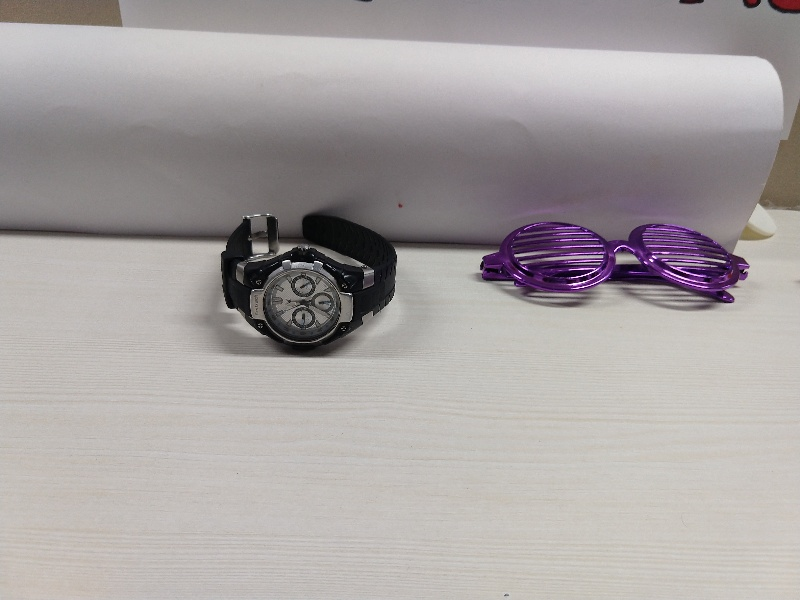shades: (466, 215, 759, 306)
watch: (219, 208, 417, 356)
